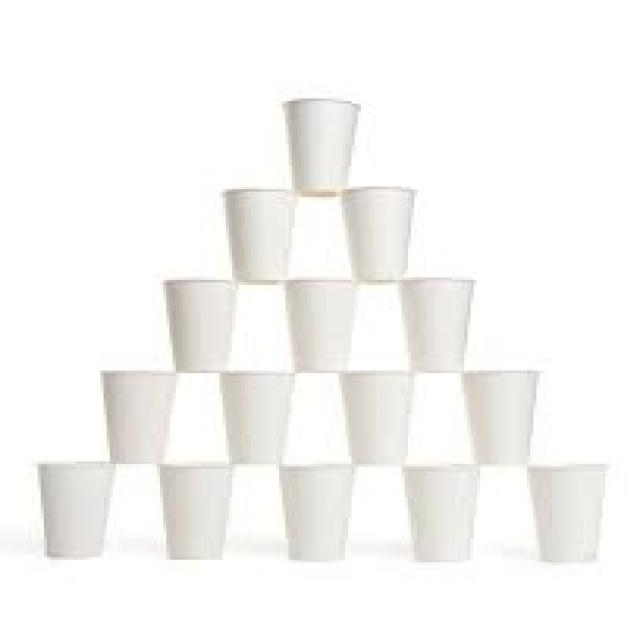styrofoam: (403, 371, 532, 559), (281, 281, 412, 463), (170, 280, 291, 462), (288, 101, 359, 194), (402, 280, 474, 371), (43, 464, 112, 557), (344, 189, 413, 281), (284, 467, 353, 559), (535, 467, 604, 559), (164, 466, 230, 558), (105, 373, 171, 462), (231, 190, 292, 279)
